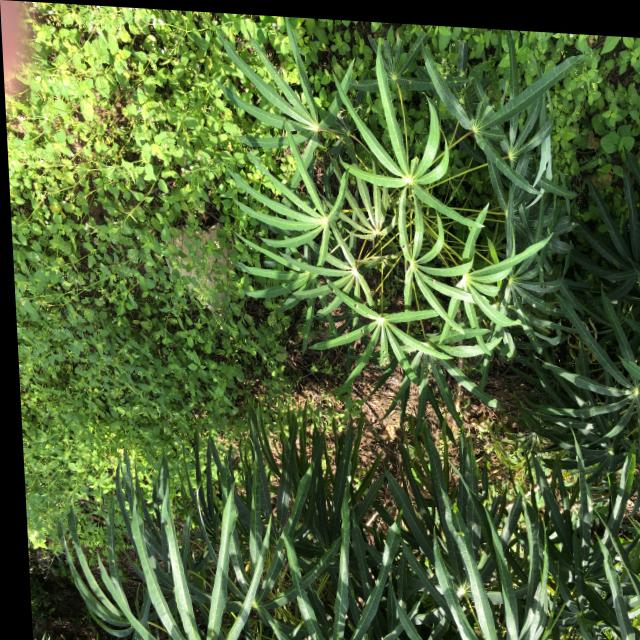Maleza: (0, 0, 213, 318), (0, 287, 249, 445), (574, 17, 639, 147)
Mosca: (402, 260, 418, 286), (421, 521, 442, 540), (477, 497, 498, 514), (227, 604, 244, 622), (453, 524, 465, 542), (240, 559, 254, 573), (450, 499, 461, 515), (205, 625, 218, 638), (349, 300, 360, 313), (528, 301, 538, 311)
